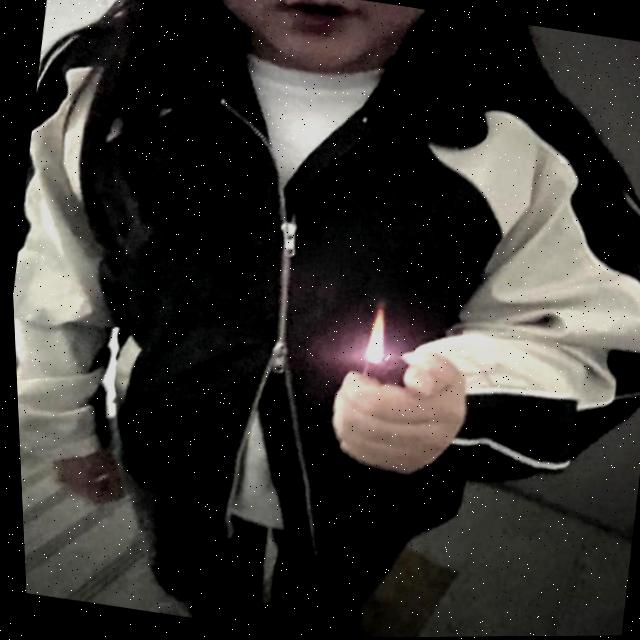Fire: (360, 300, 389, 363)
